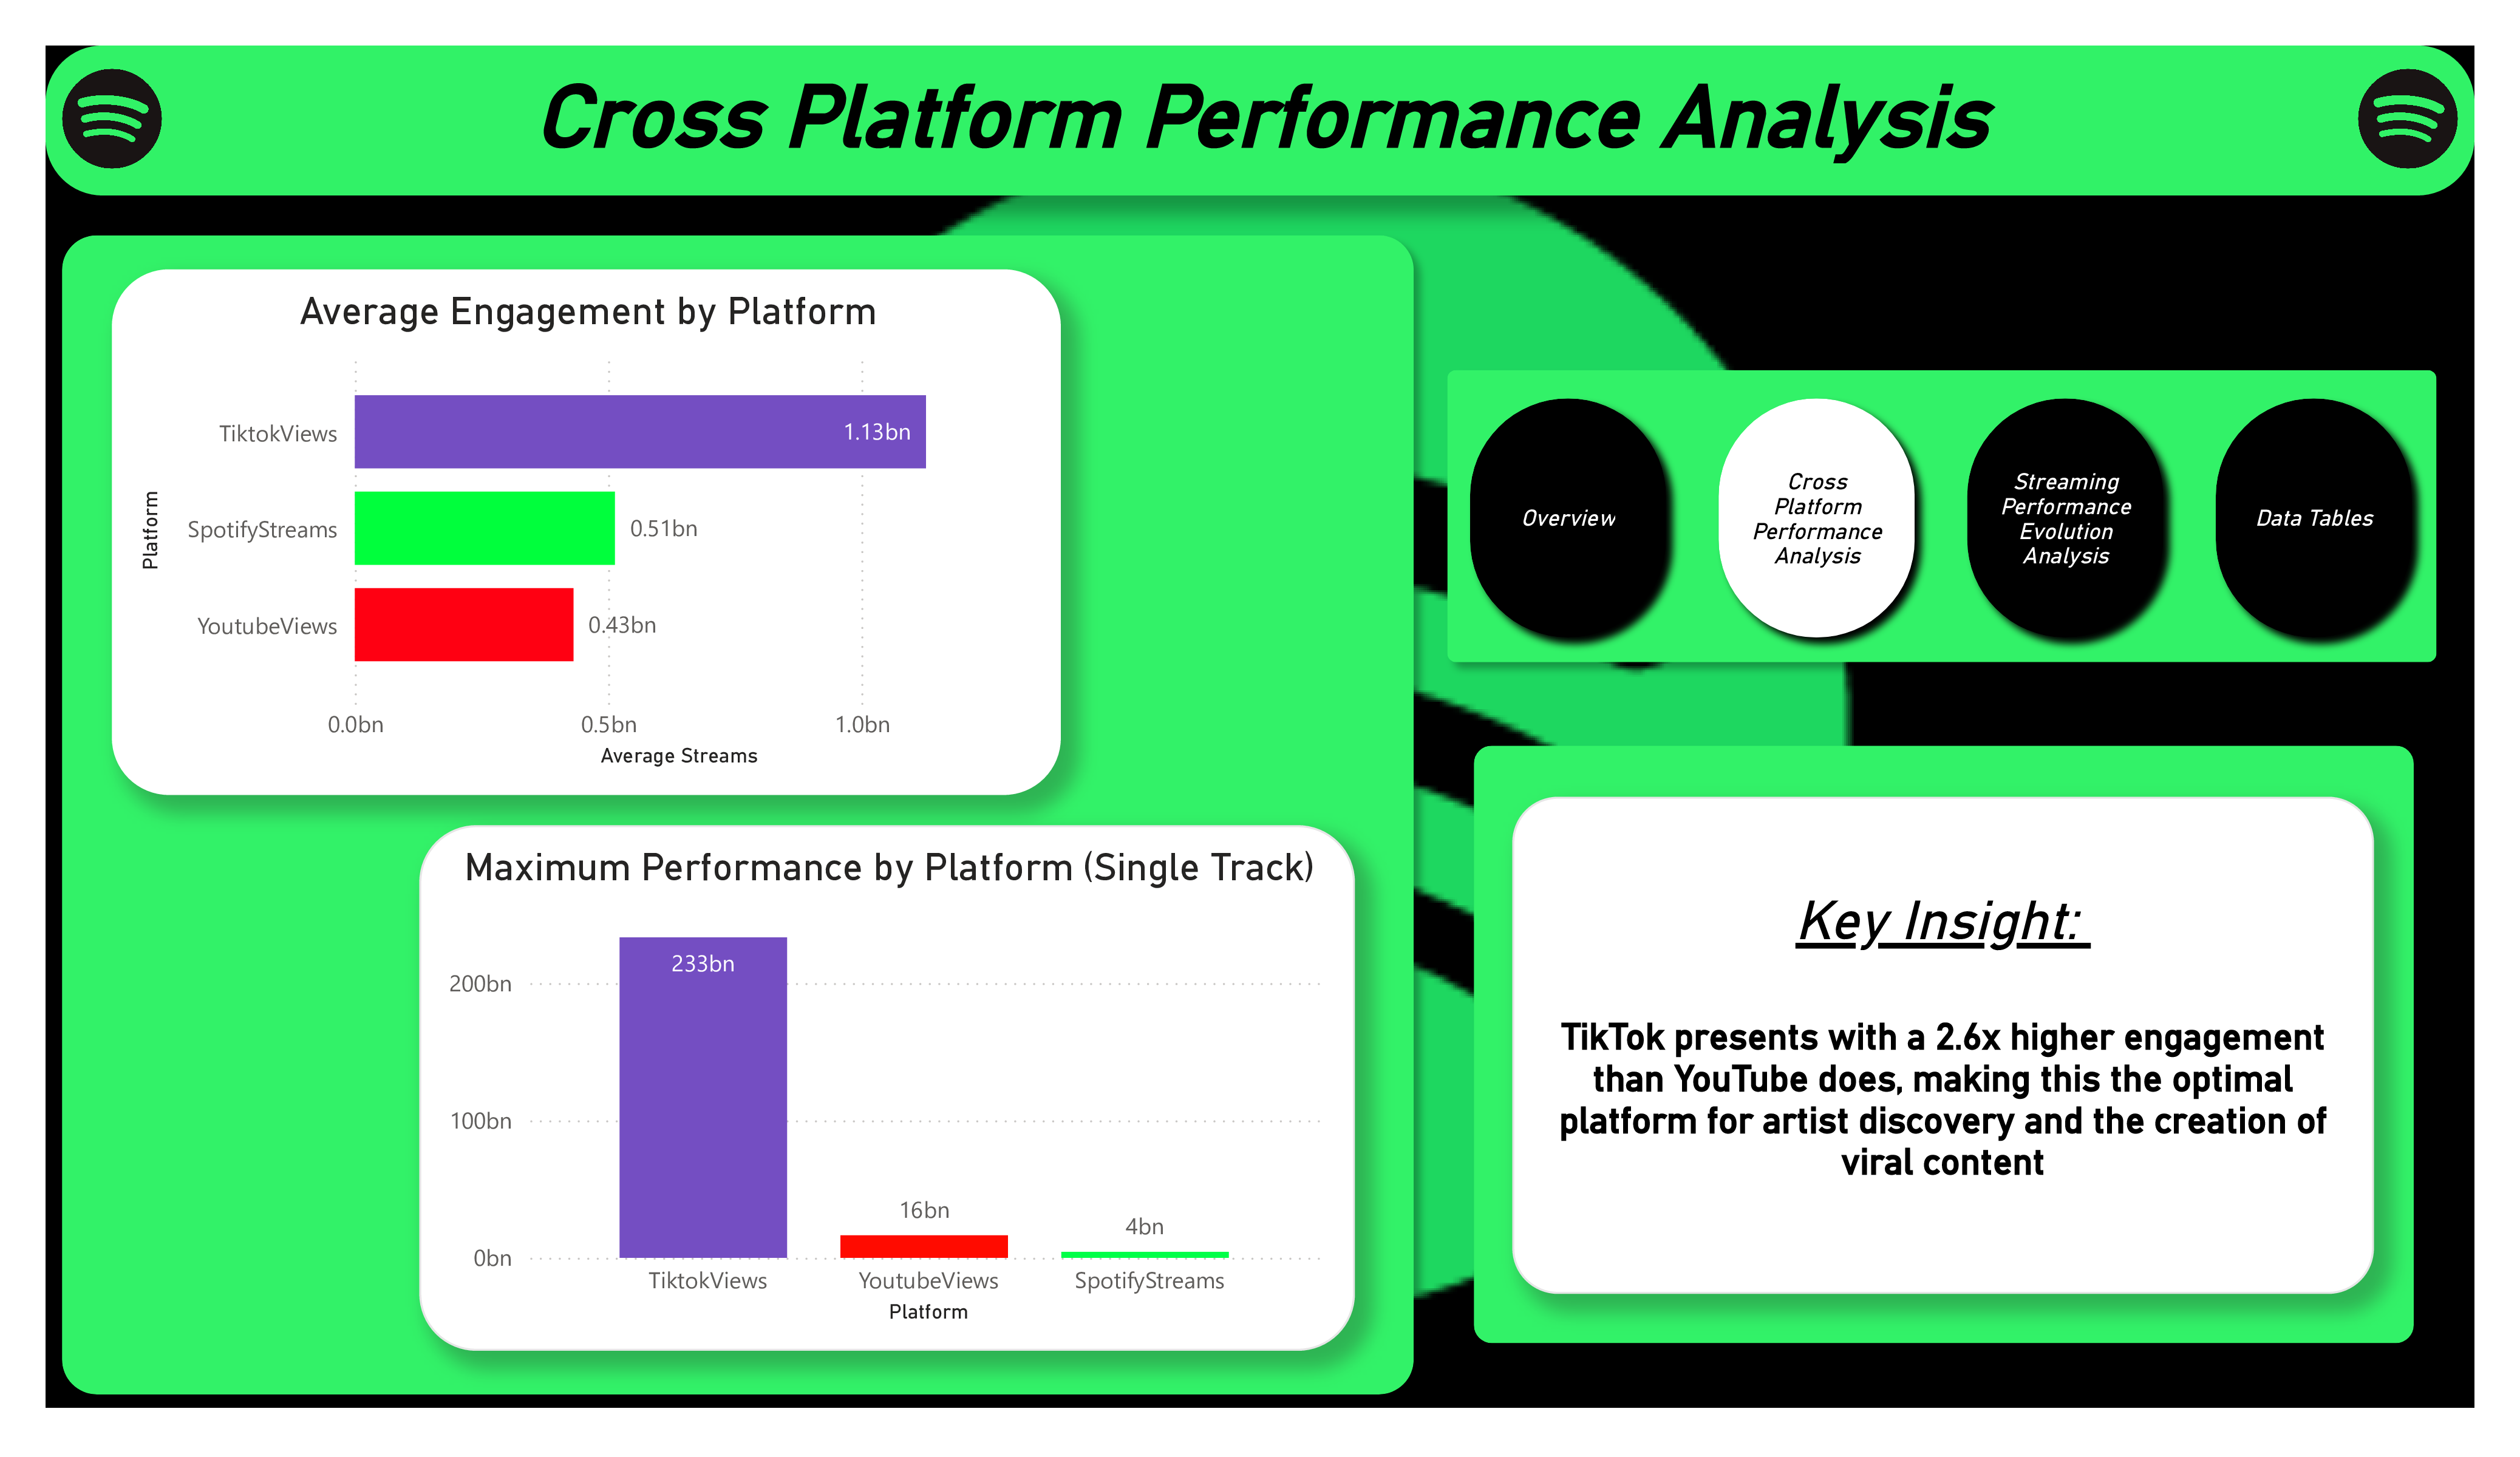

Layout of this report page (visuals, bound fields, positions):
{"tool":"powerbi","page":{"name":"Cross Platform Performance Analysis","canvas":[1280,720],"ordinal":1},"visuals":[{"type":"shape","box":[0,91.1,730,628.9],"z":0},{"type":"shape","box":[744.4,360,512.2,333.3],"z":1000},{"type":"clusteredBarChart","title":"Average Engagement by Platform","fields":{"Category":["PlatformComparison.Platform"],"Y":["Avg(PlatformComparison.AvgStreams)"]},"box":[35,117.5,500,277.5],"z":2000},{"type":"shape","box":[730,162.2,538.9,172.2],"z":3000},{"type":"textbox","title":"Cross Platform Performance Analysis","box":[0,0,1280,78.9],"z":4000},{"type":"pageNavigator","box":[742.2,176.7,514.4,144.4],"z":5000},{"type":"textbox","box":[773.3,395.6,453.3,262.2],"z":6000},{"type":"image","box":[0,0,70,76.2],"z":7000},{"type":"image","box":[1210,0,70,76.2],"z":8000},{"type":"clusteredColumnChart","title":"Maximum Performance by Platform (Single Track)","fields":{"Category":["PlatformComparison.Platform"],"Y":["Avg(PlatformComparison.MaxStreams)"]},"box":[197.1,411.2,492.9,277.1],"z":9000}]}

Visuals, with their boxes in screenshot pixels (x1, y1, x2, y2):
shape: l=46, t=219, r=1431, b=1411
shape: l=1458, t=728, r=2430, b=1361
"Average Engagement by Platform" clusteredBarChart: l=112, t=268, r=1061, b=795
shape: l=1431, t=353, r=2453, b=680
"Cross Platform Performance Analysis" textbox: l=46, t=46, r=2474, b=195
pageNavigator: l=1454, t=381, r=2430, b=654
textbox: l=1513, t=796, r=2373, b=1294
image: l=46, t=46, r=179, b=190
image: l=2341, t=46, r=2474, b=190
"Maximum Performance by Platform (Single Track)" clusteredColumnChart: l=420, t=826, r=1355, b=1351
